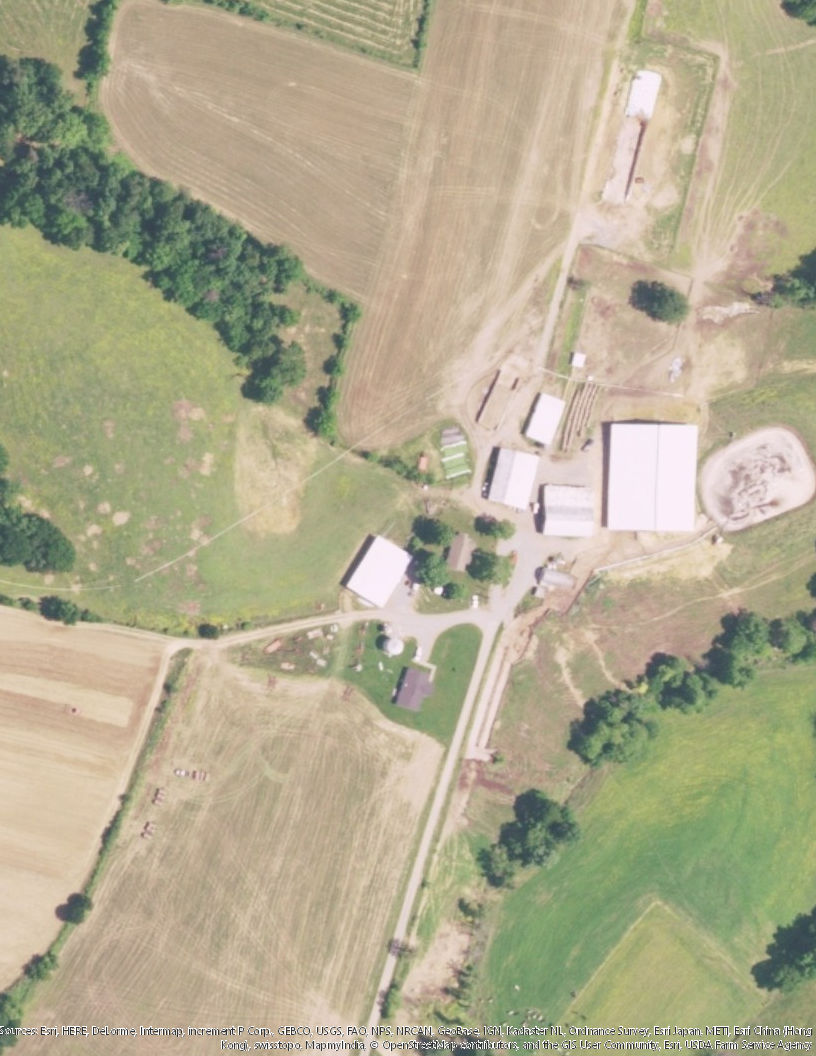cafo: (594, 416, 709, 539), (339, 532, 415, 609), (481, 446, 545, 511), (532, 482, 599, 541), (519, 390, 567, 448)
